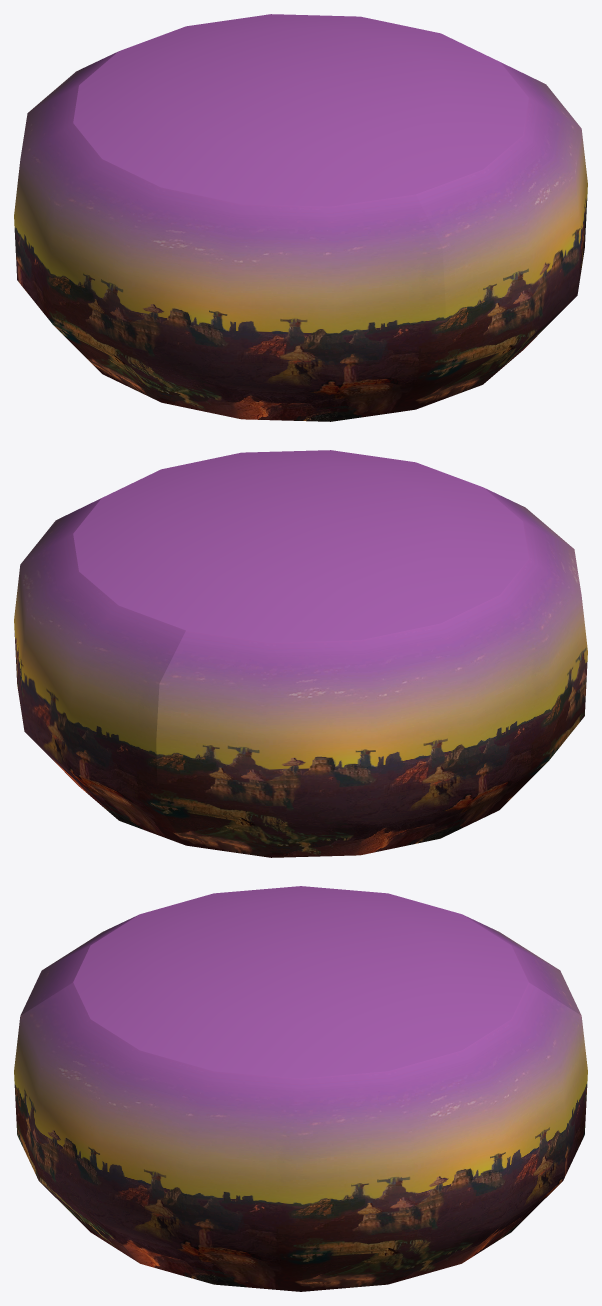
File: Bullet Station Skybox.fbx
The picture shows the model from 3 angles, top to bottom: view 1: azimuth 30°, elevation 25°; view 2: azimuth 150°, elevation 25°; view 3: azimuth 270°, elevation 25°; orthographic projection.
Visible parts, largest first — view 1: skybox; view 2: skybox; view 3: skybox.
Boxes of the visible parts, <box> form: skybox: <box>14,14,587,421</box>; skybox: <box>14,450,587,857</box>; skybox: <box>14,886,587,1291</box>.
Size of the model in its own units: 4.32e+08 by 2.15e+08 by 4.32e+08.
